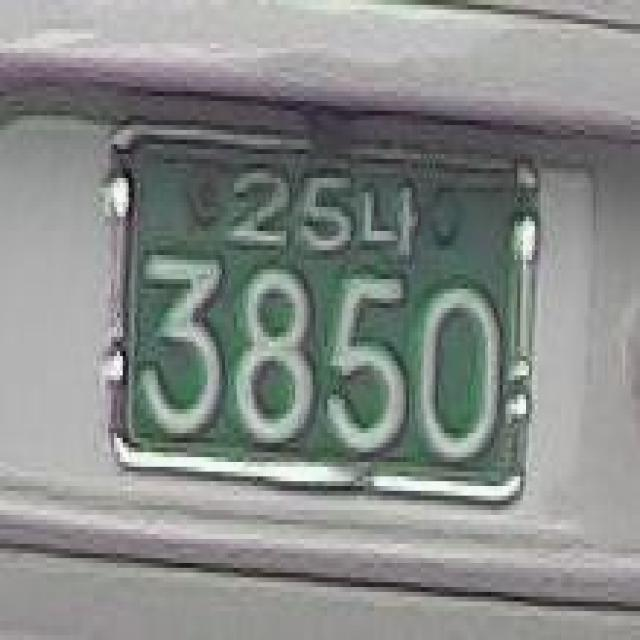illegal_plate: (91, 108, 552, 541)
